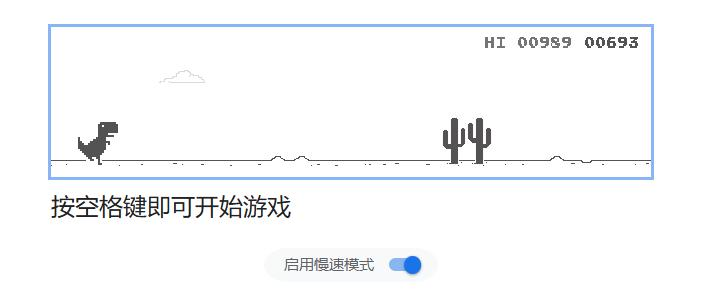cactus: (442, 117, 492, 166)
dino: (75, 121, 119, 166)
